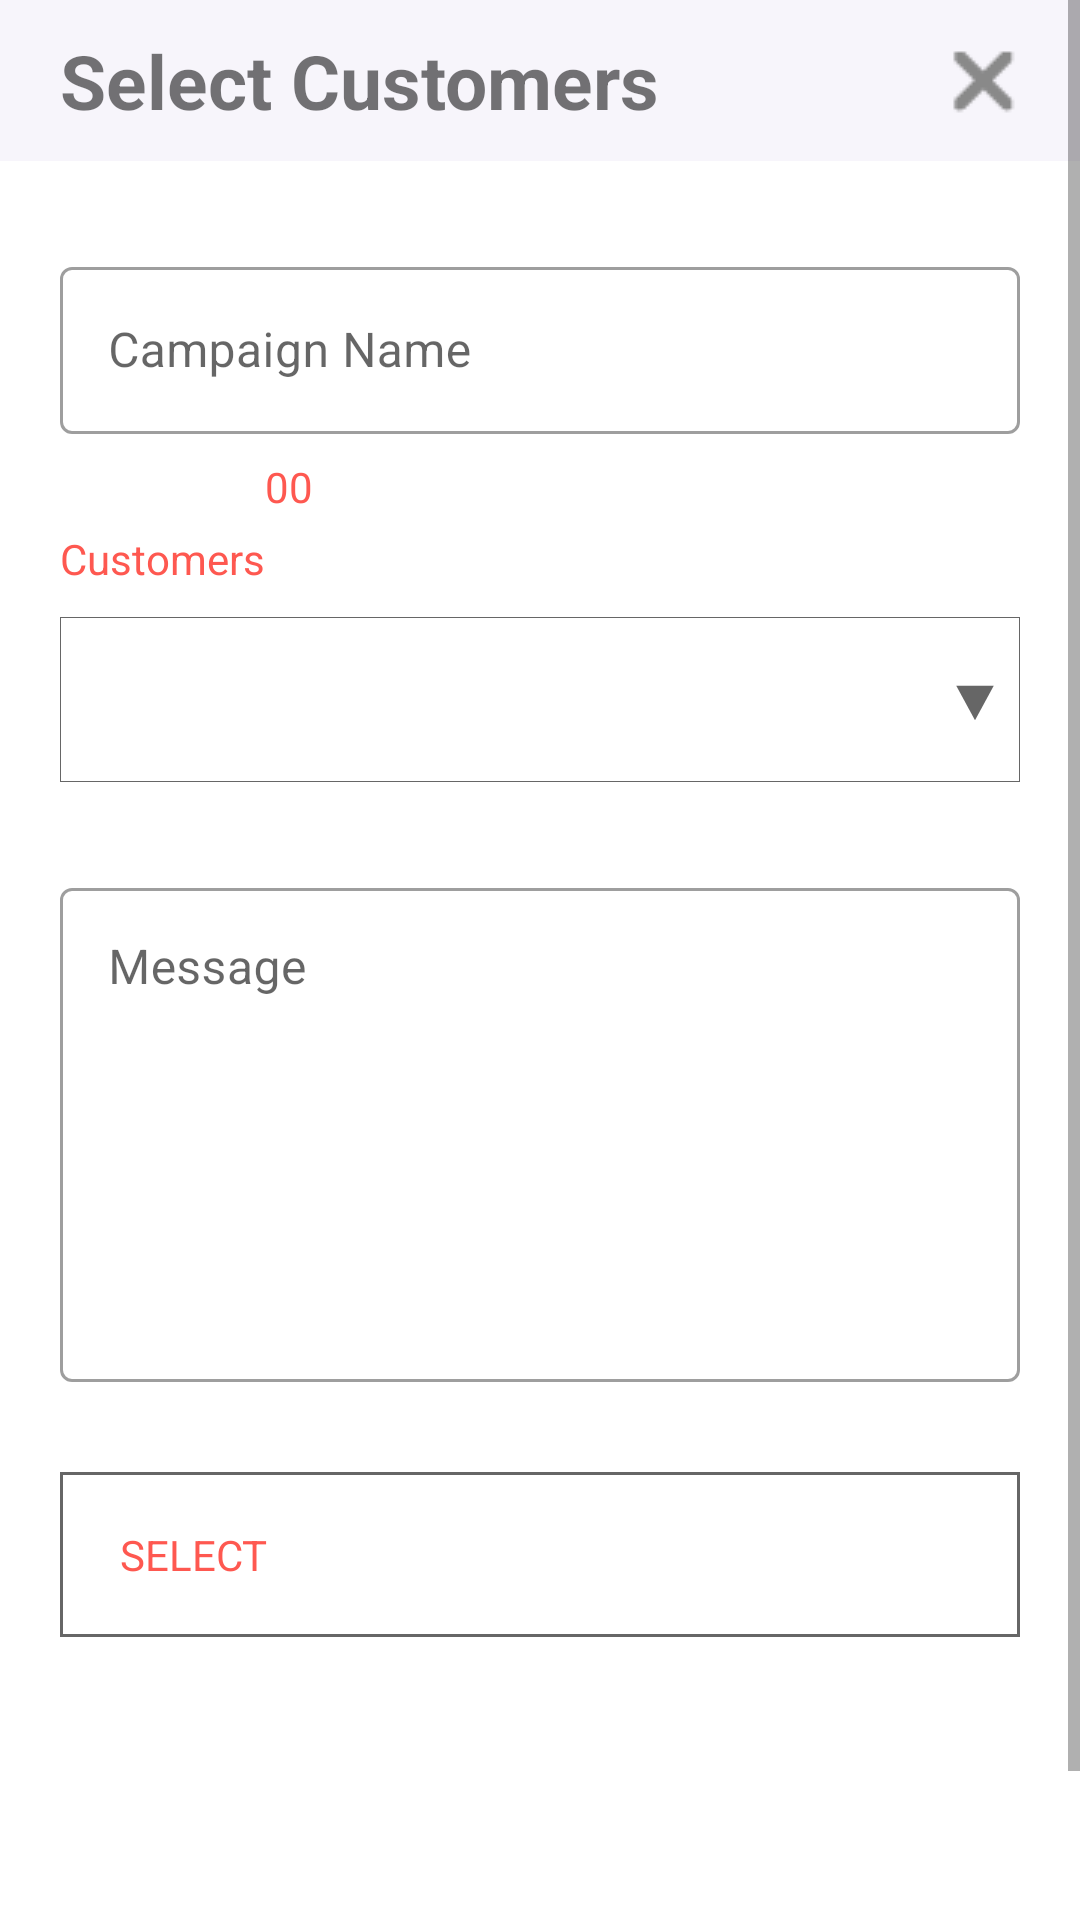

Icon click points for this 1080*1920 phone screenshot, format point (x, y):
cross delete: point (983, 81)
